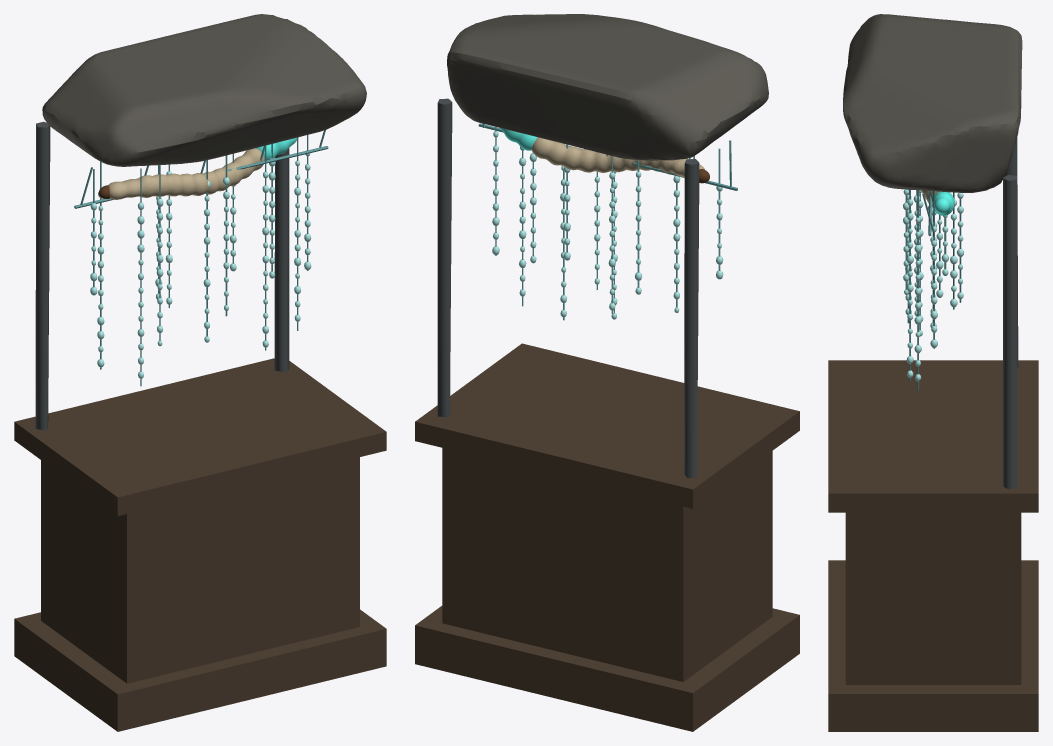
The model's file is larva.glb.
3 views of the same model, side by side, from view 1: azimuth 30°, elevation 25°; view 2: azimuth 150°, elevation 25°; view 3: azimuth 270°, elevation 25° (orthographic). The views are drawn at different scales.
Parts seen in each view (by area): view 1: wood_1, rock_5, wood_2, wood_0, steel_3, steel_4, worm_6; view 2: wood_1, rock_5, wood_2, wood_0, steel_3, steel_4, worm_6; view 3: wood_1, wood_2, rock_5, wood_0, steel_4, steel_3, glowTail_7.
Boxes of the visible parts, box(x1,y1,x2,y2) form: wood_1: box(41, 457, 359, 683); rock_5: box(42, 14, 366, 166); wood_2: box(14, 358, 386, 515); wood_0: box(14, 609, 386, 731); steel_3: box(35, 121, 50, 430); steel_4: box(274, 148, 289, 372); worm_6: box(108, 148, 264, 199); wood_1: box(442, 448, 772, 681); rock_5: box(447, 14, 768, 160); wood_2: box(415, 343, 799, 508); wood_0: box(415, 606, 799, 731); steel_3: box(684, 159, 699, 478); steel_4: box(437, 98, 452, 417); worm_6: box(531, 137, 704, 177); wood_1: box(845, 512, 1021, 684); wood_2: box(828, 360, 1038, 512); rock_5: box(843, 14, 1022, 192); wood_0: box(828, 560, 1038, 731); steel_4: box(1003, 174, 1016, 489); steel_3: box(1005, 137, 1018, 367); glowTail_7: box(932, 191, 954, 215).
Size of the model in its own units: 0.9174 by 1.9 by 0.6.
